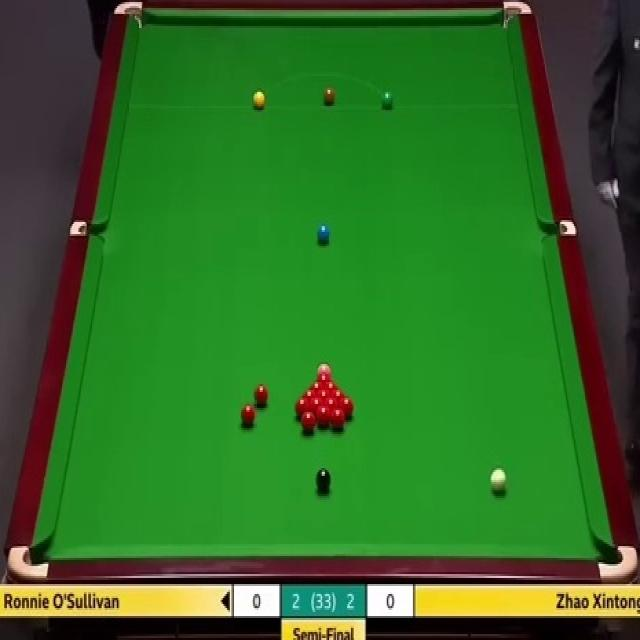black-ball: (314, 467, 330, 491)
blue-ball: (316, 225, 331, 242)
brown-ball: (322, 89, 336, 105)
green-ball: (380, 88, 395, 110)
pink-ball: (317, 364, 332, 378)
red-ball: (298, 410, 316, 433), (252, 382, 268, 407), (330, 408, 346, 432), (316, 405, 331, 427), (337, 397, 352, 418), (240, 406, 256, 424), (295, 397, 308, 419), (325, 398, 338, 419), (304, 389, 315, 401), (318, 390, 329, 402), (318, 375, 328, 387)
white-ball: (490, 468, 506, 492)
yellow-ball: (253, 90, 265, 110)
